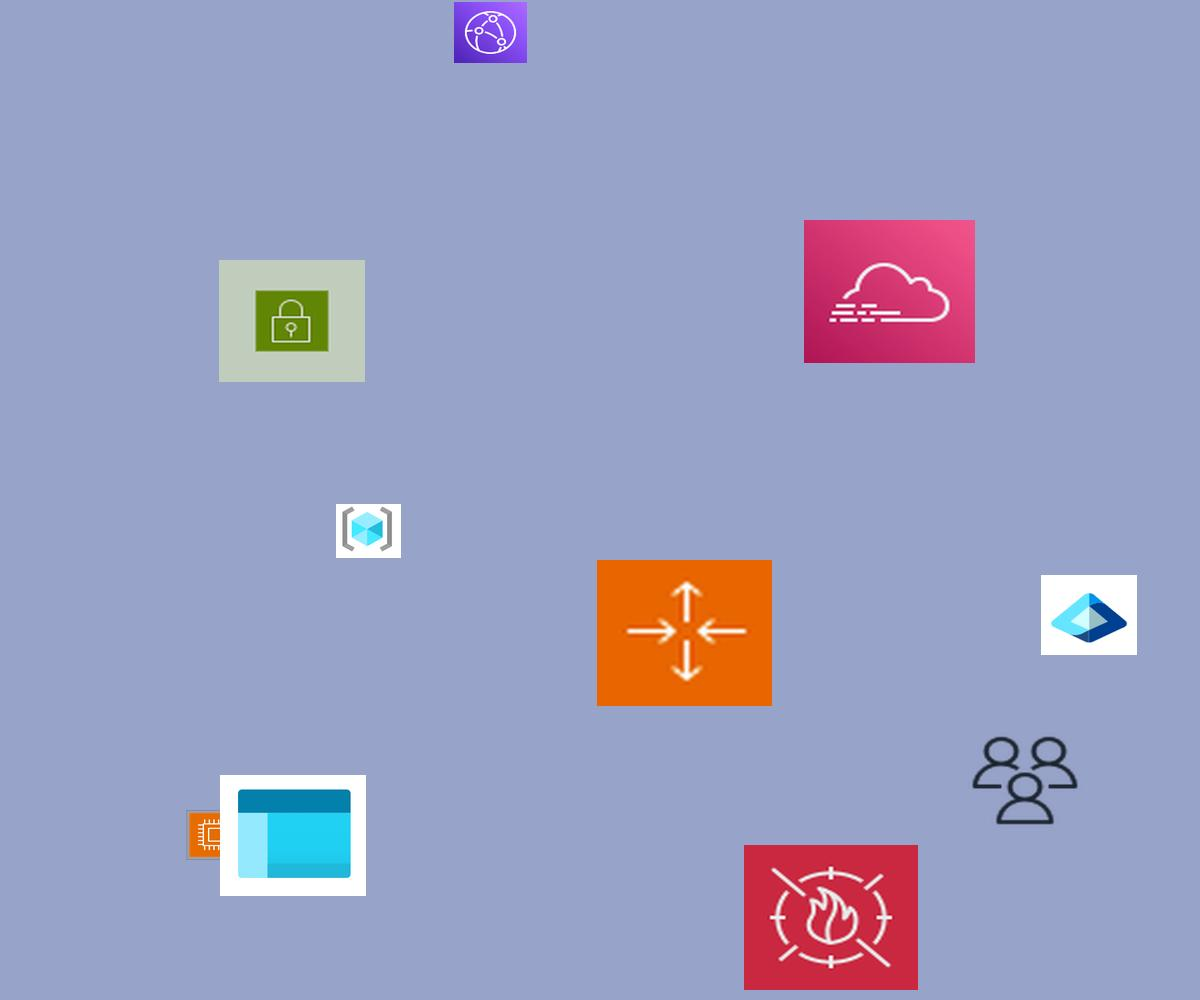AWS-Category_Compute: (186, 810, 246, 860)
AWS-CloudFront: (454, 2, 527, 63)
AWS-CloudTrail: (804, 220, 975, 363)
AWS-Public-subnet: (219, 260, 365, 382)
AWS-Res_Users: (968, 733, 1082, 828)
AWS-Scaling-group: (597, 560, 772, 706)
AWS-WAF: (744, 845, 918, 990)
Azure_management-portal: (220, 775, 366, 896)
Azure_microsoft_entra: (1041, 575, 1137, 655)
Azure_resource_group: (336, 504, 401, 558)
